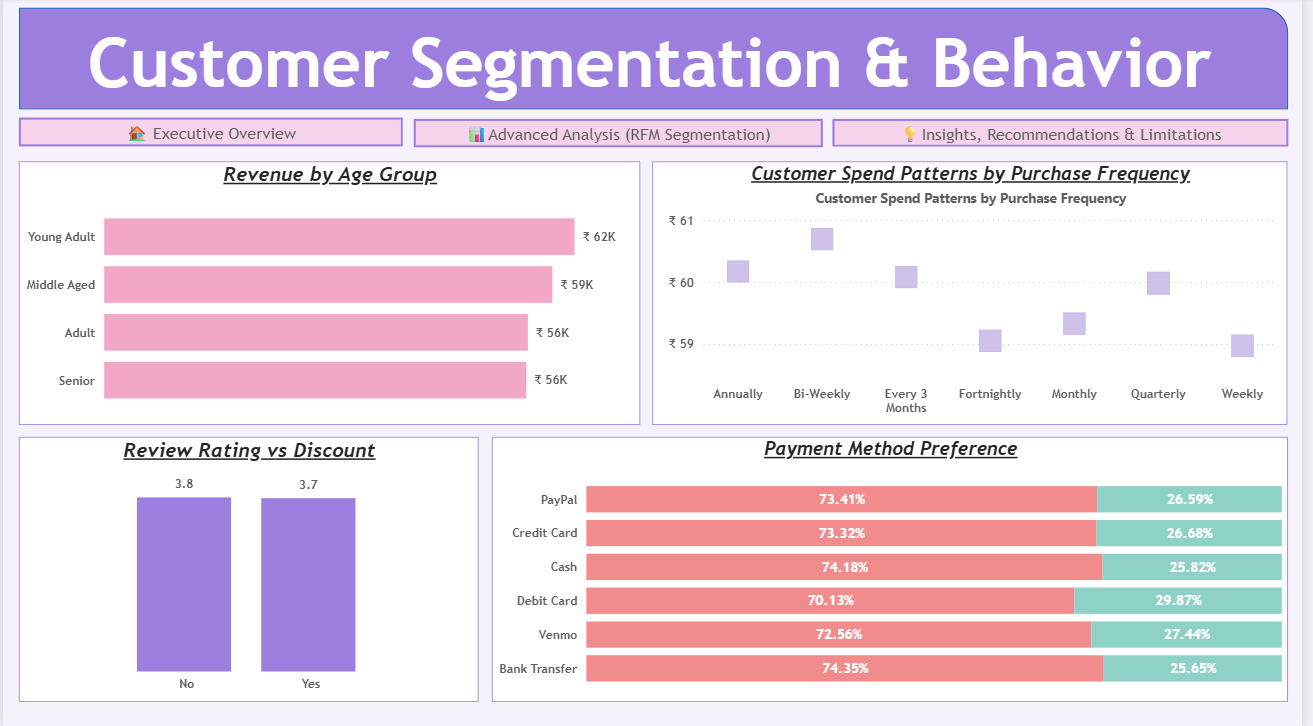

This screenshot's page, from the dashboard's own definition file:
{"tool":"powerbi","page":{"name":"Customer Segmentation & Behavior","canvas":[1280,720],"ordinal":4},"visuals":[{"type":"shape","box":[15.7,10.4,1250.5,100.5],"z":0},{"type":"barChart","title":"Revenue by Age Group","fields":{"Y":["Sum(public customer.purchase_amount)"],"Category":["public customer.age_group"]},"box":[16,162,612,260],"z":1000},{"type":"scatterChart","title":"Customer Spend Patterns by Purchase Frequency","fields":{"X":["public customer.frequency_of_purchases"],"Y":["Avg(public customer.purchase_amount)"],"Size":["Avg(public customer.previous_purchases)"]},"box":[640,162,626,260],"z":2000},{"type":"clusteredColumnChart","title":"Review Rating vs Discount","fields":{"Category":["public customer.discount_applied"],"Y":["MeasuresTable.Avg_review"]},"box":[15.7,433.4,452.9,261.1],"z":3000},{"type":"hundredPercentStackedBarChart","title":"Payment Method Preference","fields":{"Category":["public customer.payment_method"],"Y":["CountNonNull(public customer.customer_id)"],"Series":["public customer.subscription_status"]},"box":[481.7,433.4,784.5,261.1],"z":4000},{"type":"actionButton","box":[404,120,403,28],"z":5000},{"type":"actionButton","box":[816.7,120,449.2,27.5],"z":6000},{"type":"actionButton","box":[15.8,119.2,378.3,28.3],"z":7000}]}

Visuals, with their boxes in screenshot pixels (x1, y1, x2, y2), scaled from the page's 1280x720 canvas onto the 1313x726 screenshot:
shape: detection(16, 10, 1299, 112)
"Revenue by Age Group" barChart: detection(16, 163, 644, 426)
"Customer Spend Patterns by Purchase Frequency" scatterChart: detection(656, 163, 1299, 426)
"Review Rating vs Discount" clusteredColumnChart: detection(16, 437, 481, 700)
"Payment Method Preference" hundredPercentStackedBarChart: detection(494, 437, 1299, 700)
actionButton: detection(414, 121, 828, 149)
actionButton: detection(838, 121, 1299, 149)
actionButton: detection(16, 120, 404, 149)
